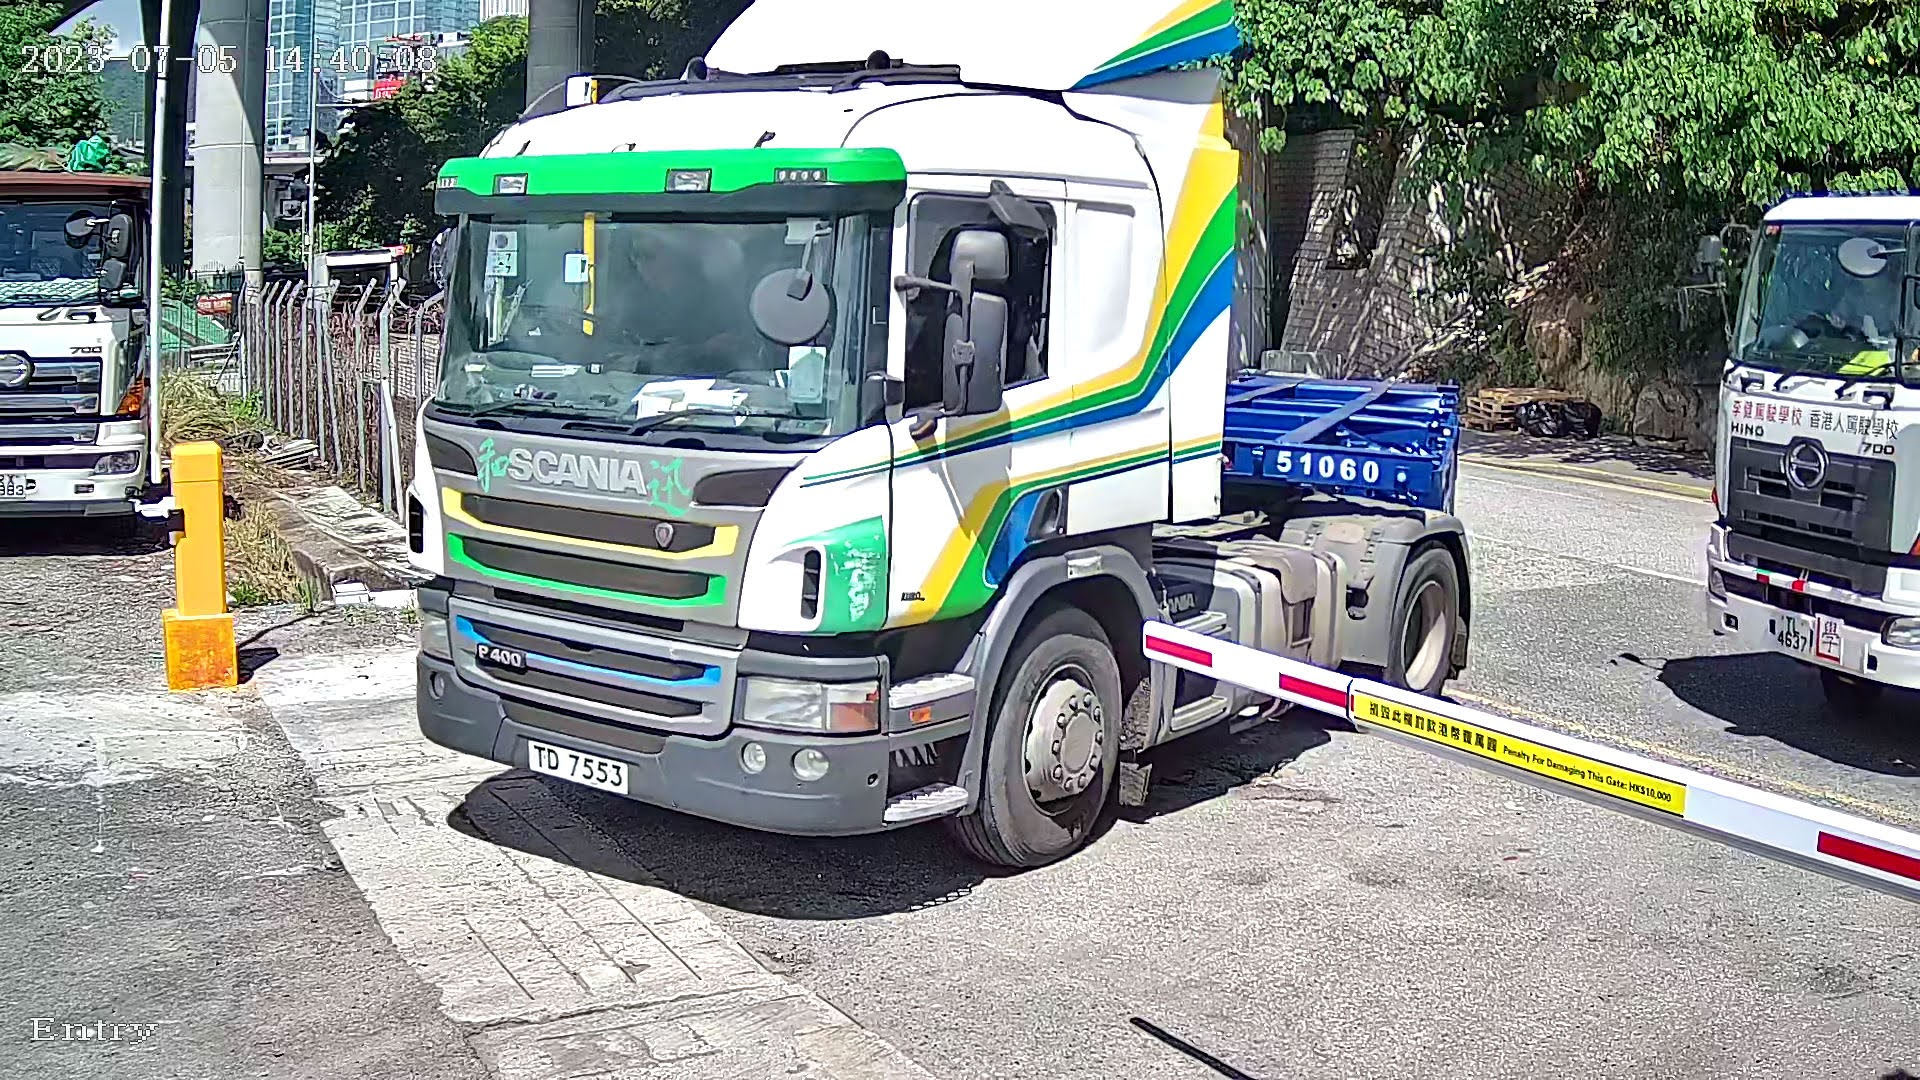truck: (344, 1, 1549, 913)
